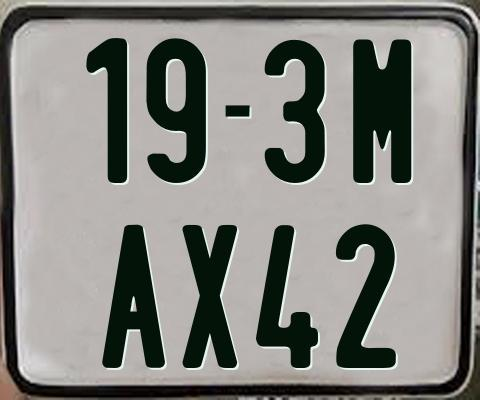1: (86, 38, 129, 184)
2: (333, 222, 393, 370)
3: (261, 39, 323, 183)
4: (256, 223, 321, 367)
9: (143, 36, 209, 185)
A: (102, 223, 168, 370)
M: (350, 36, 411, 185)
X: (179, 225, 234, 369)
